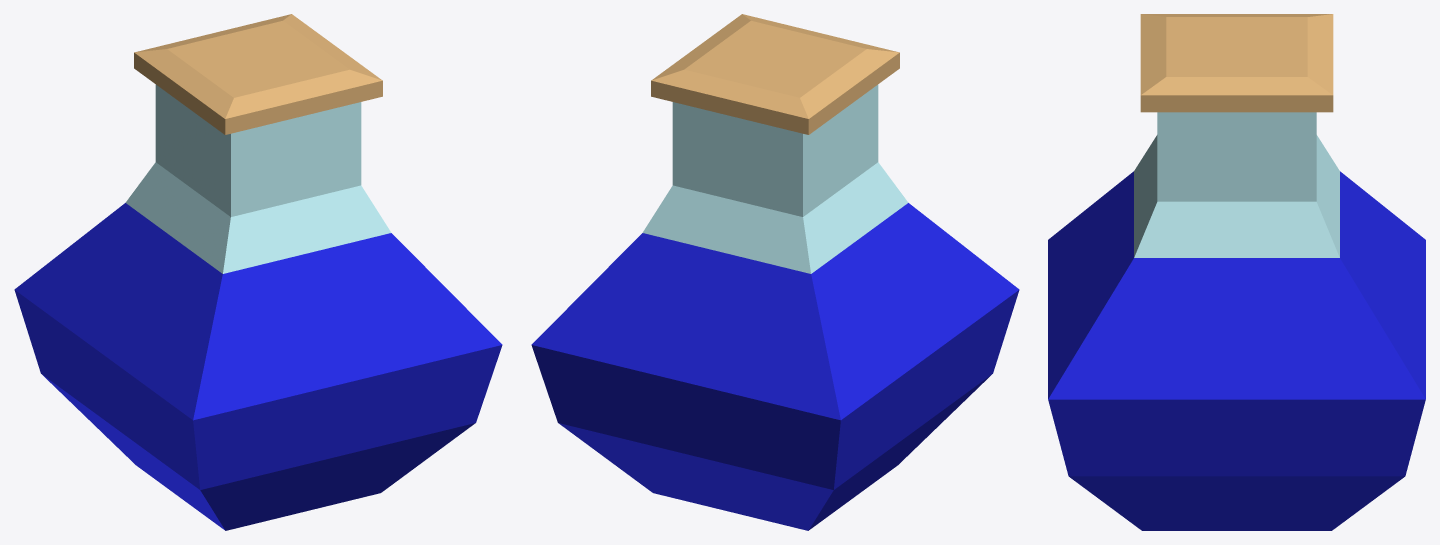
Rendered from ManaBottle.fbx.
3 views of the same model, side by side, from view 1: azimuth 30°, elevation 25°; view 2: azimuth 150°, elevation 25°; view 3: azimuth 270°, elevation 25° (orthographic). The views are drawn at different scales.
Parts seen in each view (by area): view 1: ManaBottle; view 2: ManaBottle; view 3: ManaBottle.
Part boxes in pixels (x1,y1,x2,y2): ManaBottle: [14, 14, 502, 530]; ManaBottle: [531, 14, 1019, 530]; ManaBottle: [1048, 14, 1425, 530].
Bounding box in the file's own units: 84.21 × 109 × 84.21.
